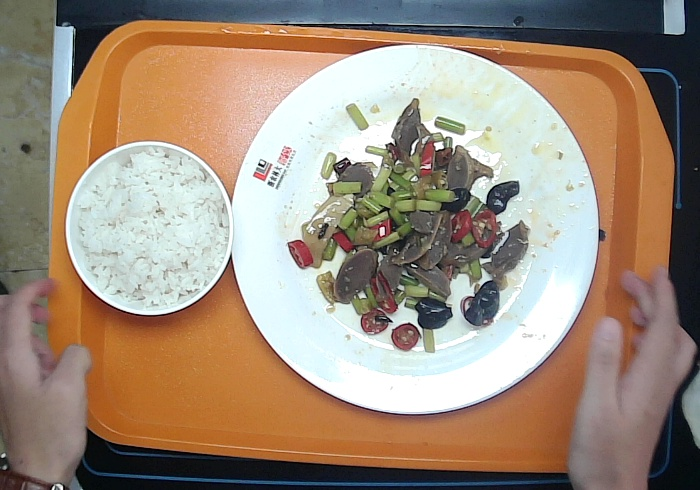ZNLD-Da_Yuan_Pan: (230, 42, 600, 415)
ZNLD-Fan_Wan: (63, 139, 234, 316)
